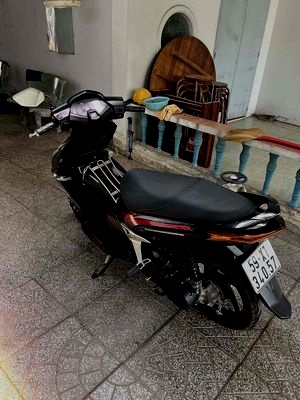Bien-so: (249, 228, 295, 289)
